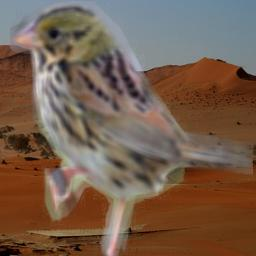Sparrow: (10, 1, 253, 256)
